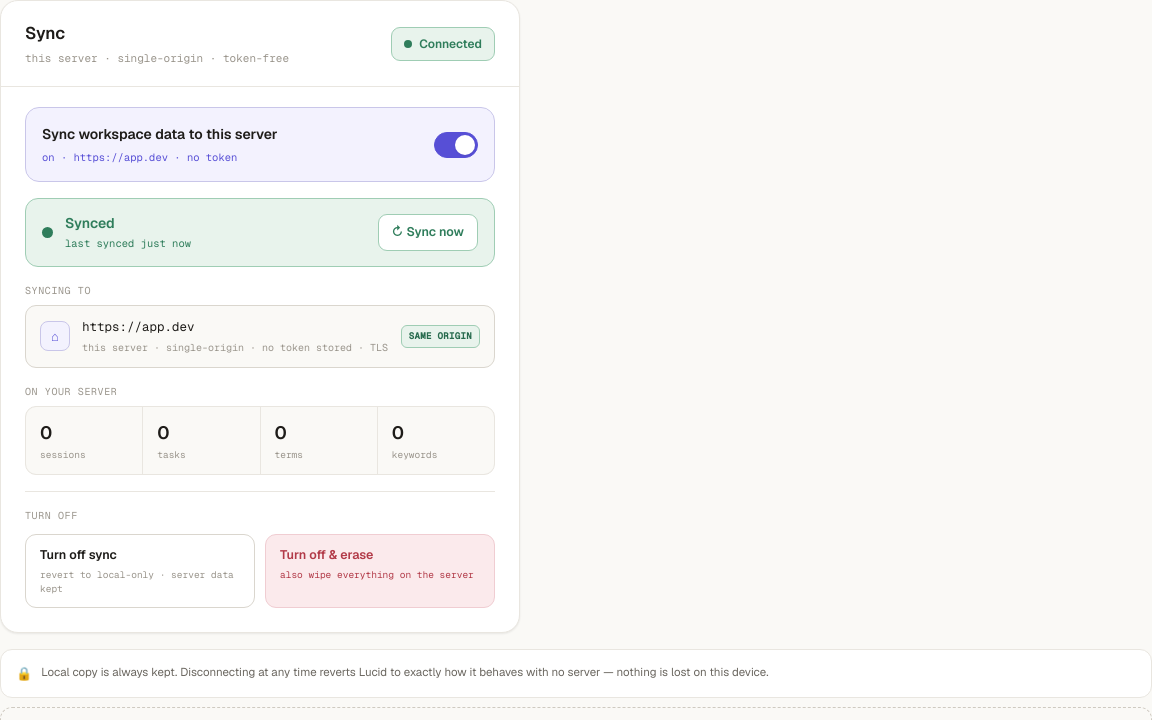
SyncSettingsPanel › connected single-origin → turning the ON toggle off opens the turn-off dialog
Click the switch named "sync workspace data to this server" at (456, 145), box [434, 132, 478, 158]
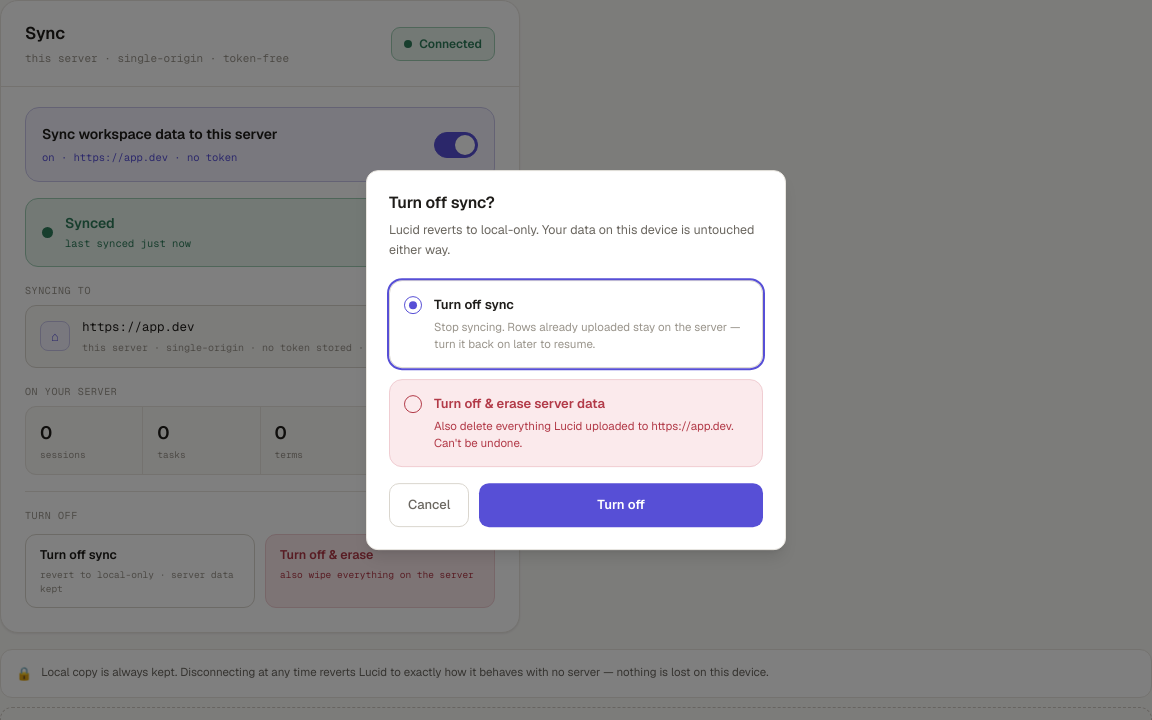
Result: the element "Turn off sync" is shown at [367, 266, 785, 549]
